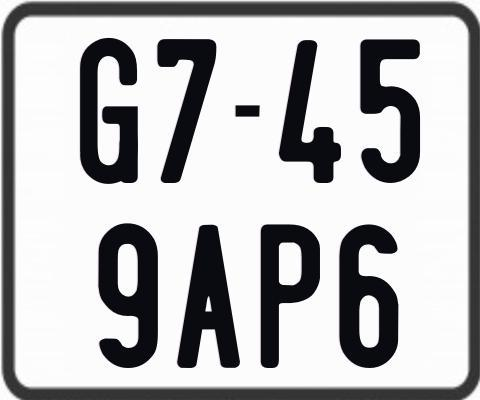4: (277, 40, 340, 186)
5: (357, 38, 422, 185)
6: (336, 222, 401, 367)
7: (154, 37, 217, 185)
9: (98, 220, 162, 367)
A: (177, 222, 241, 370)
G: (77, 38, 139, 188)
P: (260, 224, 325, 374)
